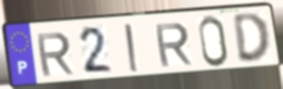0: (196, 14, 231, 69)
2: (78, 24, 114, 79)
D: (231, 11, 273, 65)
I: (123, 22, 141, 74)
R: (152, 21, 194, 69), (34, 30, 76, 78)
